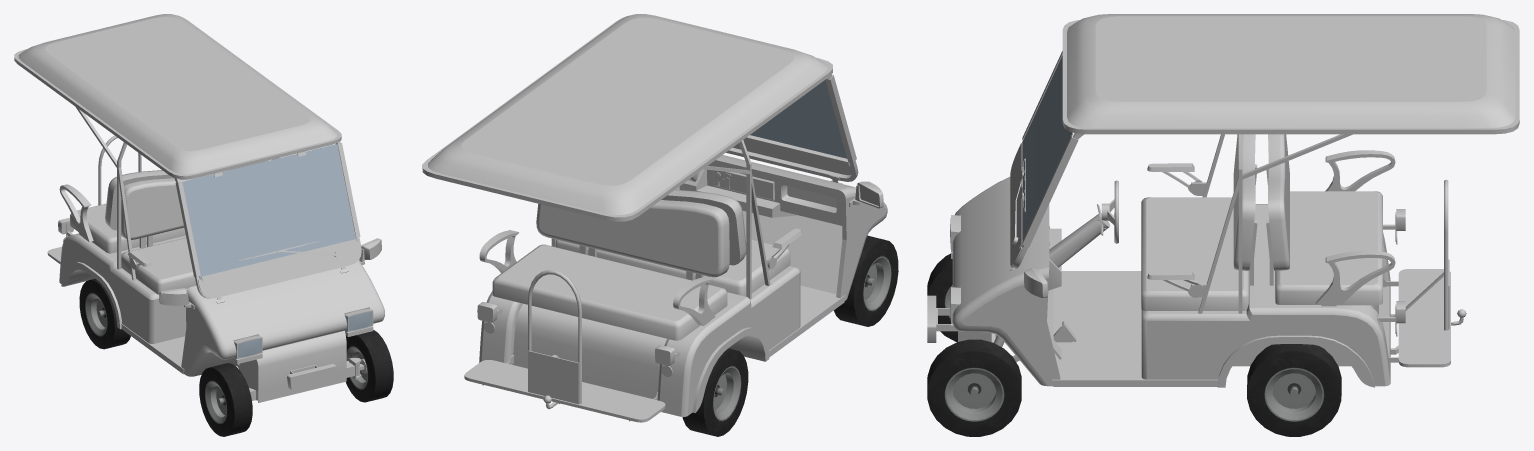
The model's file is GolfMachine.fbx.
3 renders of one model, left to right at view 1: azimuth 30°, elevation 25°; view 2: azimuth 150°, elevation 25°; view 3: azimuth 270°, elevation 25°, orthographic. The views are drawn at different scales.
Parts seen in each view (by area): view 1: GolfCart, GolfCart_Wheel_Front_Right, GolfCart_Wheel_Front_Left, GolfCart_Wheel_Rear_Right; view 2: GolfCart, GolfCart_Wheel_Front_Right, GolfCart_Wheel_Rear_Right; view 3: GolfCart, GolfCart_Wheel_Front_Left, GolfCart_Wheel_Rear_Left, GolfCart_Wheel_Front_Right.
Boxes of the visible parts, x1,y1,x2,y2 form: GolfCart: [14, 14, 384, 402]; GolfCart_Wheel_Front_Right: [199, 363, 252, 436]; GolfCart_Wheel_Front_Left: [346, 330, 393, 402]; GolfCart_Wheel_Rear_Right: [79, 278, 130, 349]; GolfCart: [422, 14, 887, 422]; GolfCart_Wheel_Front_Right: [834, 235, 898, 326]; GolfCart_Wheel_Rear_Right: [682, 348, 748, 436]; GolfCart: [927, 14, 1519, 387]; GolfCart_Wheel_Front_Left: [927, 339, 1021, 436]; GolfCart_Wheel_Rear_Left: [1247, 344, 1341, 436]; GolfCart_Wheel_Front_Right: [927, 253, 996, 341].
Bounding box in the file's own units: 178 × 186 × 307.
